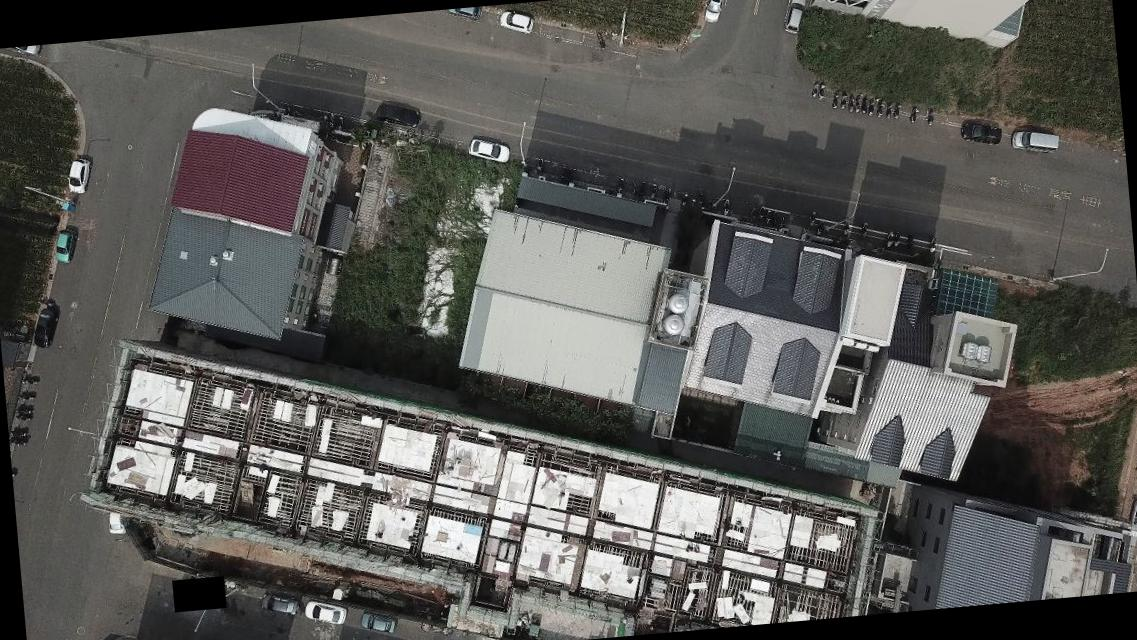vehicle: (1009, 124, 1059, 158), (960, 116, 1004, 147), (466, 134, 509, 165), (304, 598, 346, 628), (49, 226, 80, 266), (29, 307, 57, 350), (65, 156, 94, 196), (260, 590, 300, 618), (358, 608, 397, 636), (498, 8, 535, 36), (781, 0, 807, 36), (700, 0, 729, 26), (104, 511, 128, 538), (445, 8, 484, 22), (1125, 496, 1136, 541)
